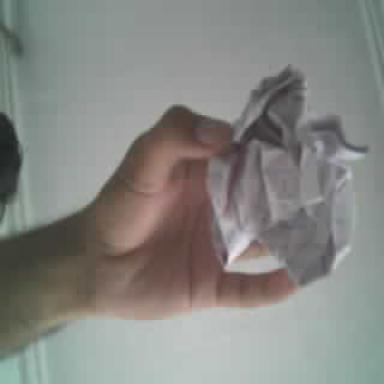paper: (209, 67, 366, 283)
